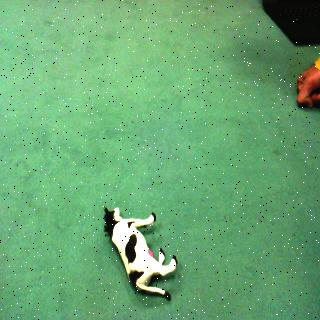cow: (98, 195, 180, 307)
